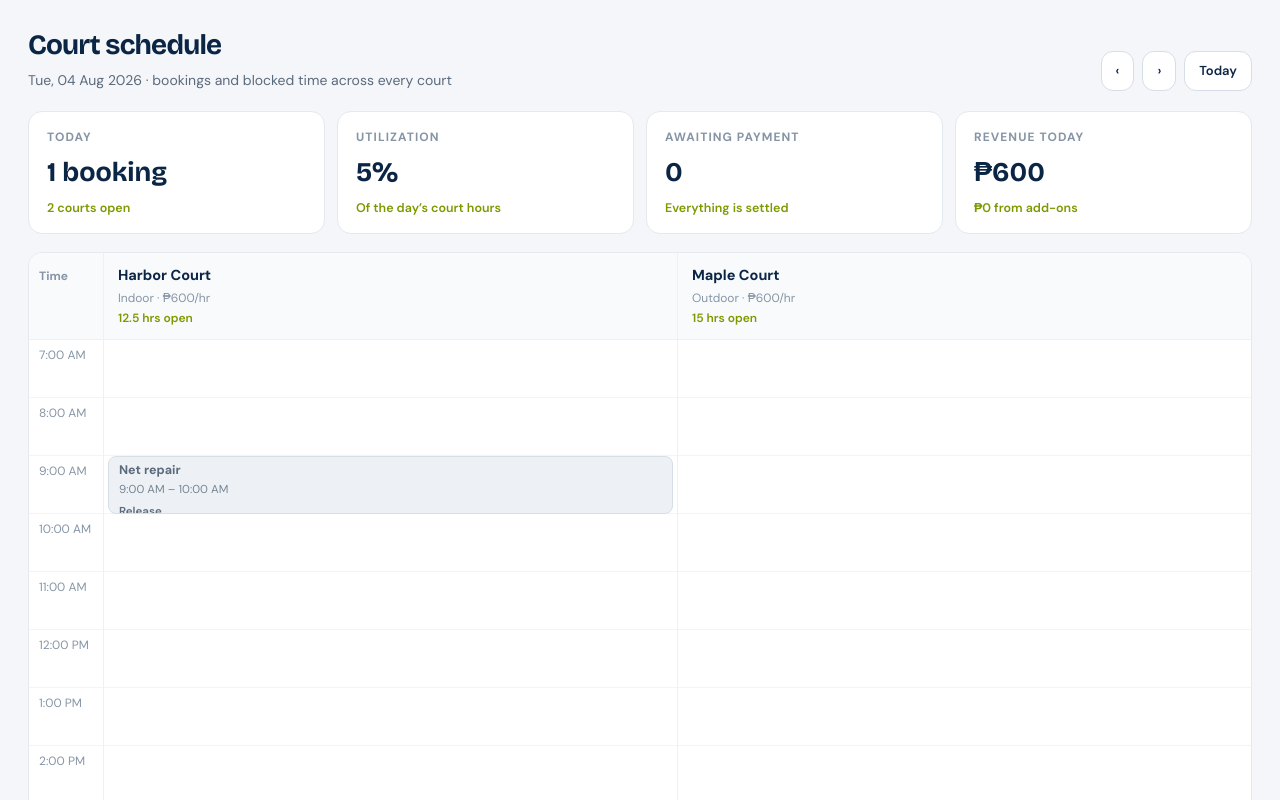
ScheduleScreen releasing time › reports a failed release rather than leaving the block on the grid unexplained
Click the button with aria-label "release net repair": (140, 512) [119,503,162,520]
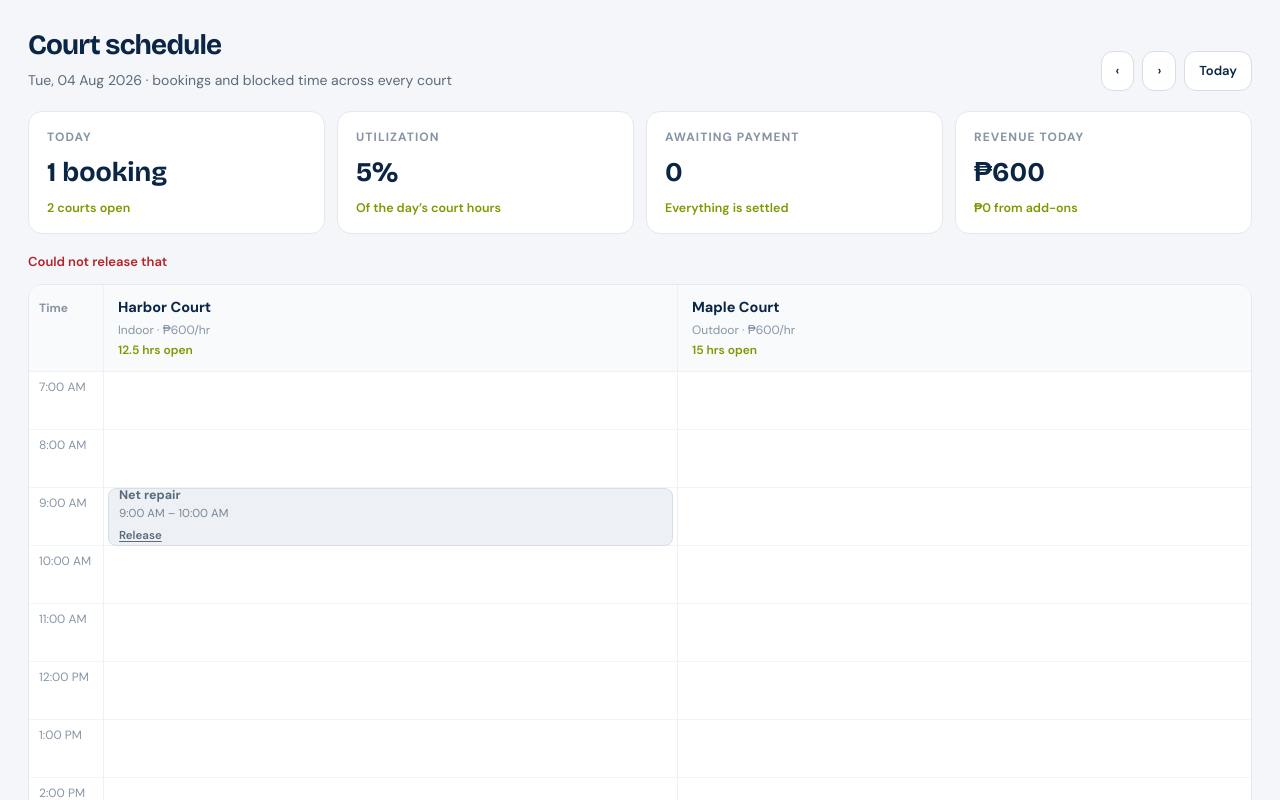
Result: the message reads "Could not release that" at [28,253,167,270]
